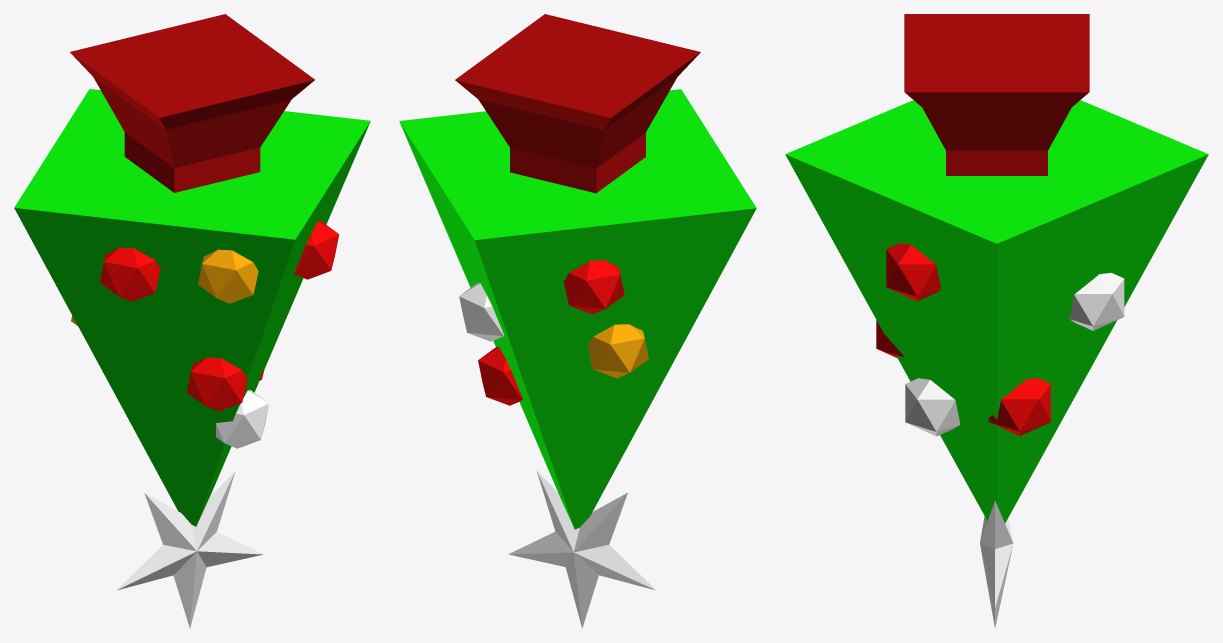
File: santa.obj
The picture shows the model from 3 angles, left to right: view 1: azimuth 30°, elevation 25°; view 2: azimuth 150°, elevation 25°; view 3: azimuth 270°, elevation 25°; orthographic projection. The views are drawn at different scales.
Visible parts, largest first — view 1: Cone, Cube.001, Circle, Icosphere.008, Icosphere.007, Icosphere.012, Icosphere.018, Icosphere.009; view 2: Cone, Cube.001, Circle, Icosphere.006, Icosphere.001, Icosphere.010, Icosphere.016; view 3: Cone, Cube.001, Icosphere.010, Icosphere.016, Icosphere.018, Icosphere.009, Circle.
Boxes of the visible parts, x1,y1,x2,y2 form: Cone: (14,89,370,526); Cube.001: (70,14,314,192); Circle: (116,471,263,628); Icosphere.008: (100,247,160,301); Icosphere.007: (186,357,247,411); Icosphere.012: (198,249,258,303); Icosphere.018: (216,390,268,448); Icosphere.009: (294,221,339,279); Cone: (399,89,756,529); Cube.001: (455,14,700,193); Circle: (508,470,655,628); Icosphere.006: (564,260,624,314); Icosphere.001: (588,324,648,378); Icosphere.010: (478,347,523,405); Icosphere.016: (459,283,504,341); Cone: (785,100,1208,523); Cube.001: (904,14,1089,175); Icosphere.010: (988,378,1050,435); Icosphere.016: (1069,272,1124,330); Icosphere.018: (905,378,960,436); Icosphere.009: (886,243,941,301); Circle: (980,500,1013,628).
Size of the model in its own units: 4.58 by 6.89 by 4.58.
